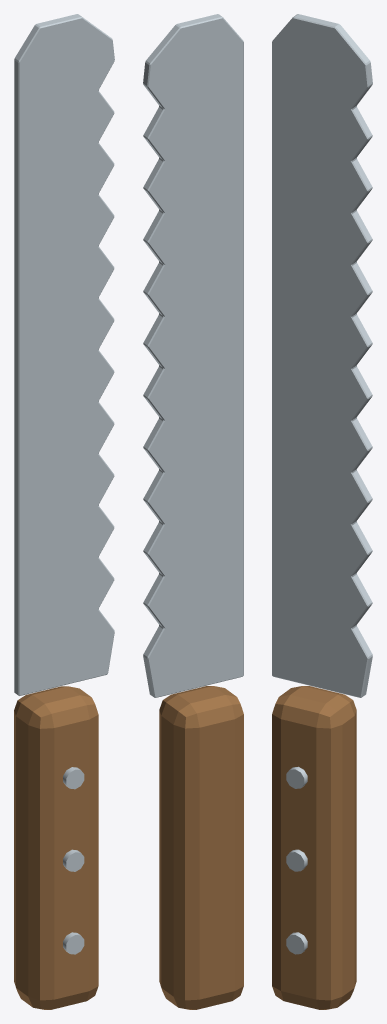
File: knife_bread.glb
The picture shows the model from 3 angles, left to right: view 1: azimuth 30°, elevation 25°; view 2: azimuth 210°, elevation 25°; view 3: azimuth 330°, elevation 25°; orthographic projection.
Visible parts, largest first — view 1: Serrated bread blade, Bread knife handle, Handle rivet, Handle rivet.002, Handle rivet.001; view 2: Serrated bread blade, Bread knife handle; view 3: Serrated bread blade, Bread knife handle, Handle rivet.001, Handle rivet, Handle rivet.002.
Boxes of the visible parts, bbox=[...] form: Serrated bread blade: bbox=[14, 14, 114, 695]; Bread knife handle: bbox=[14, 686, 98, 1009]; Handle rivet: bbox=[63, 932, 84, 954]; Handle rivet.002: bbox=[63, 767, 84, 789]; Handle rivet.001: bbox=[63, 849, 84, 871]; Serrated bread blade: bbox=[143, 14, 243, 697]; Bread knife handle: bbox=[159, 686, 243, 1009]; Serrated bread blade: bbox=[272, 14, 372, 697]; Bread knife handle: bbox=[272, 686, 356, 1009]; Handle rivet.001: bbox=[286, 849, 307, 871]; Handle rivet: bbox=[286, 932, 307, 954]; Handle rivet.002: bbox=[286, 766, 307, 788].
Bounding box in the file's own units: 0.041 × 0.397 × 0.0255.
